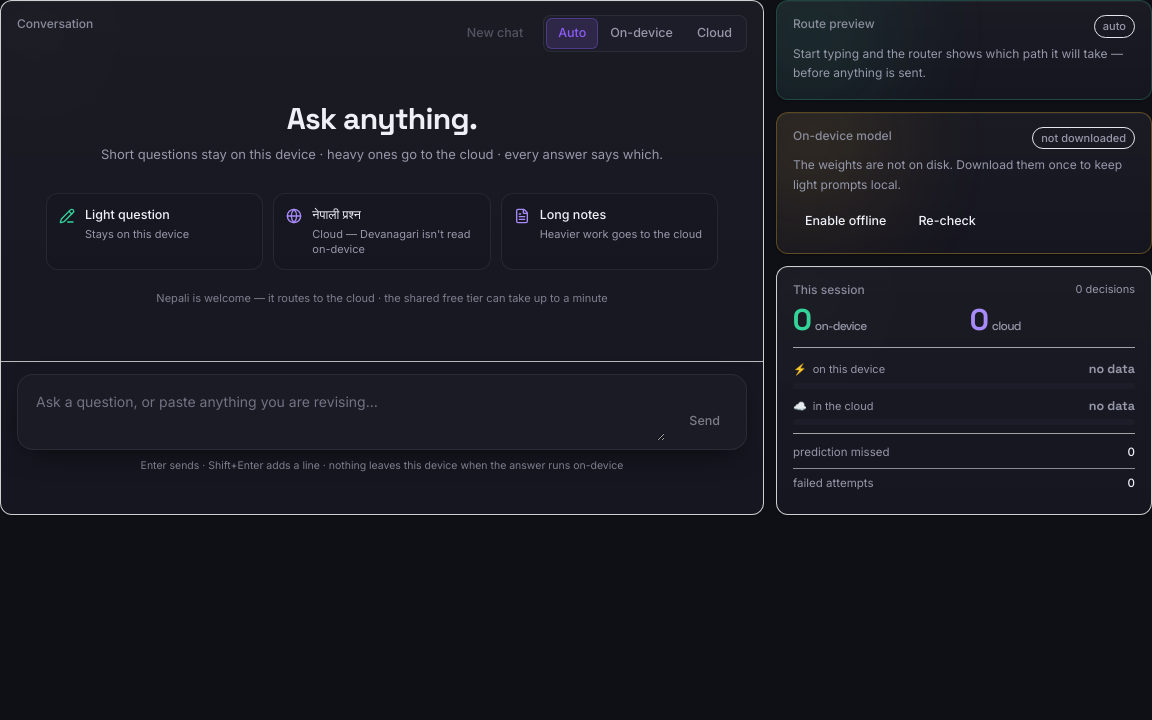
it: AskPage when a new chat starts during a retry wait › drops the armed retry instead of answering into an empty conversation
Type "Question for the old chat" into the text box named "Your question" at (346, 412), box left=26, top=383, right=665, bottom=441
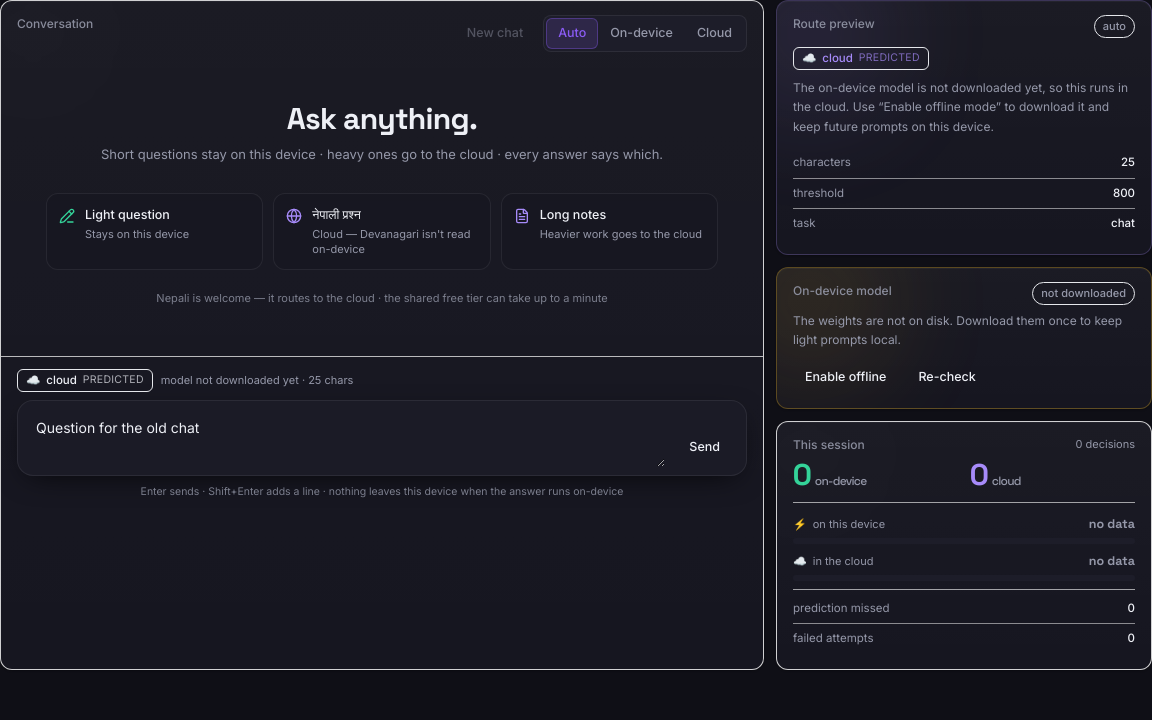
Click the button "Send" at (705, 447), box left=673, top=429, right=736, bottom=465
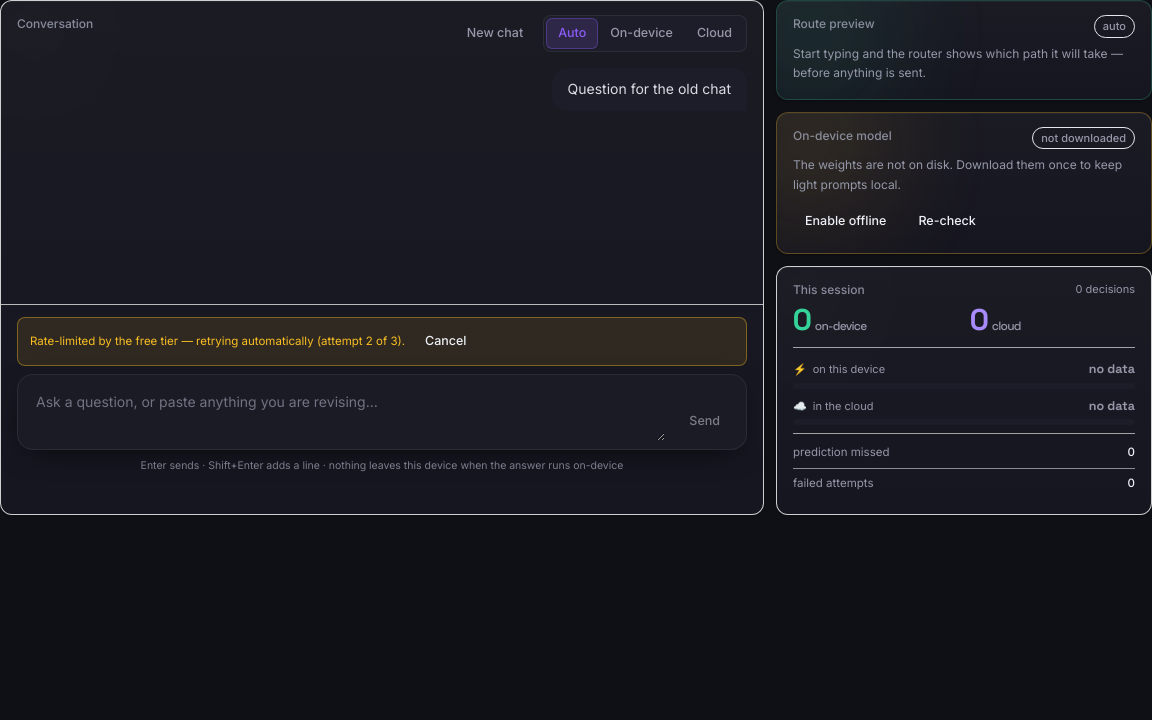
Result: the text "retrying automatically" is shown at left=30, top=334, right=366, bottom=348
Result: the text "Question for the old chat" is shown at left=568, top=78, right=731, bottom=101
Click the button "New chat" at (495, 33), box left=455, top=18, right=535, bottom=49
Wait 120000 ms
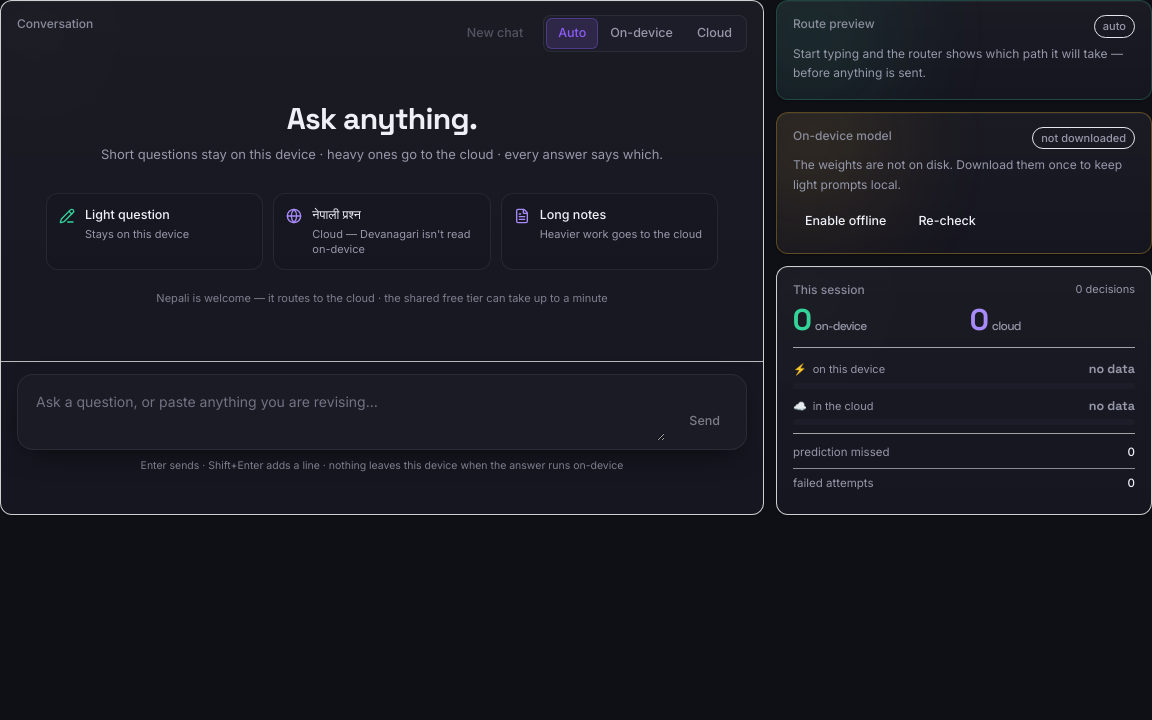
Result: the text "Question for the old chat" is gone
